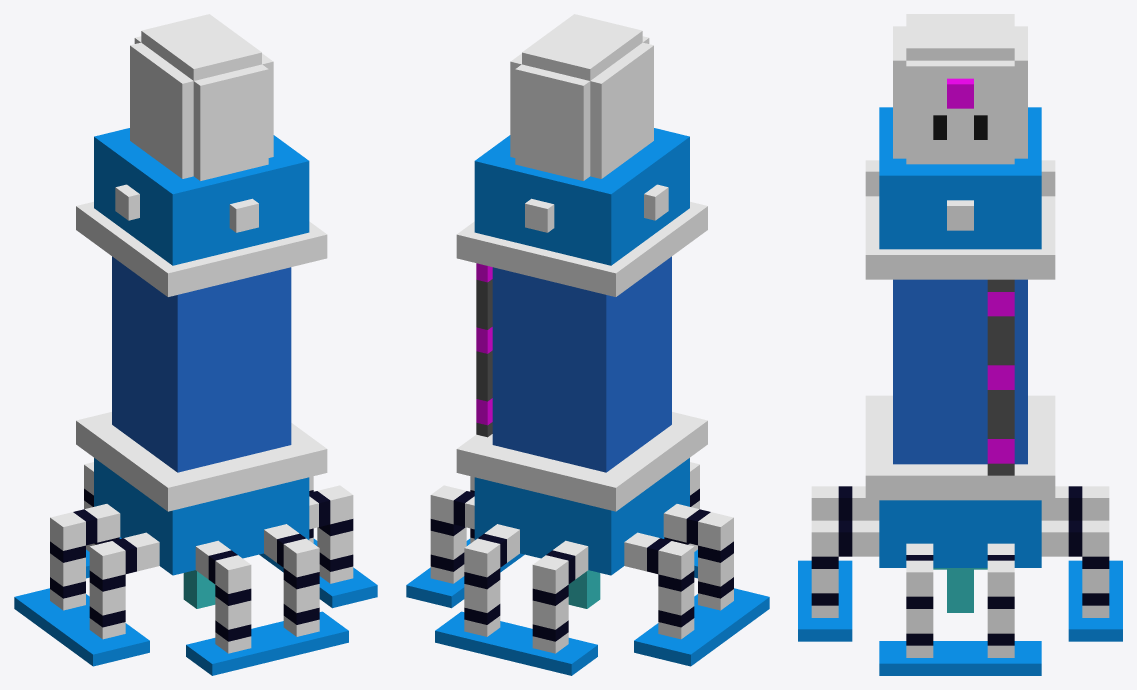
File: Harvester_full.vox.obj
3 renders of one model, left to right at view 1: azimuth 30°, elevation 25°; view 2: azimuth 150°, elevation 25°; view 3: azimuth 270°, elevation 25°, orthographic. The views are drawn at different scales.
Bounding box in the file's own units: 2.5 × 4.7 × 2.4.
Materials: 1 (1 with a texture image).
